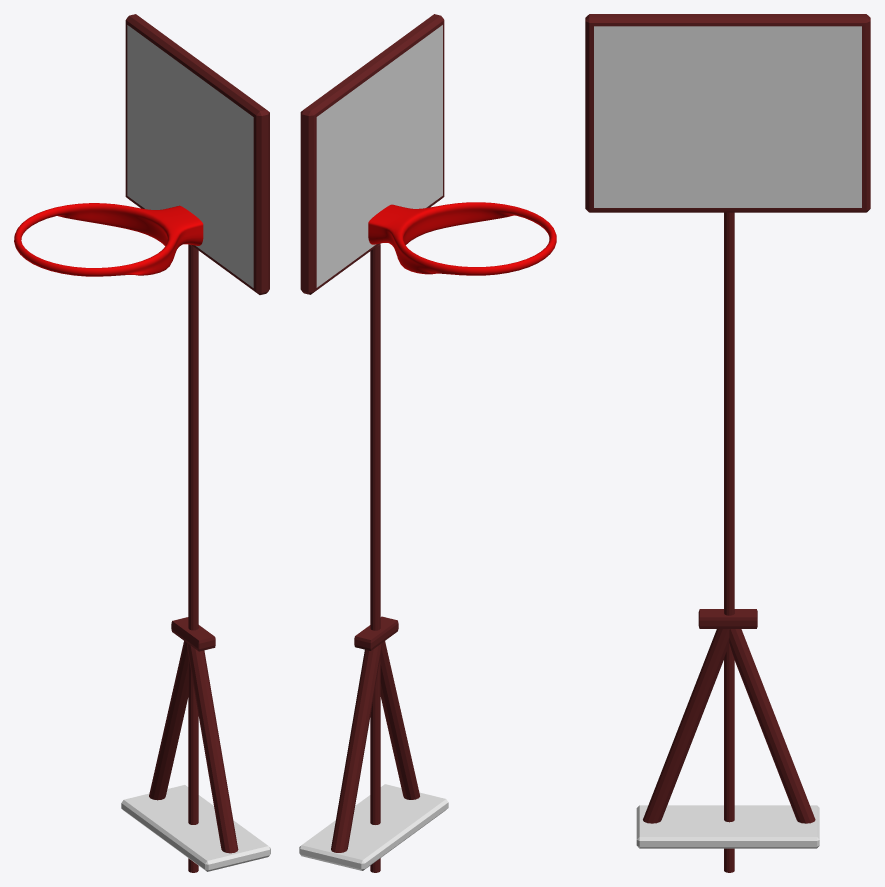
File: pole.fbx
3 renders of one model, left to right at view 1: azimuth 30°, elevation 25°; view 2: azimuth 150°, elevation 25°; view 3: azimuth 270°, elevation 25°, orthographic. The views are drawn at different scales.
Parts seen in each view (by area): view 1: BasketBall_Court:basketball_court:basket6; view 2: BasketBall_Court:basketball_court:basket6; view 3: BasketBall_Court:basketball_court:basket6.
Part boxes in pixels (<box>): BasketBall_Court:basketball_court:basket6: <box>14,14,270,872</box>; BasketBall_Court:basketball_court:basket6: <box>299,14,556,872</box>; BasketBall_Court:basketball_court:basket6: <box>585,14,870,872</box>.
Size of the model in its own units: 123 by 465 by 140.
